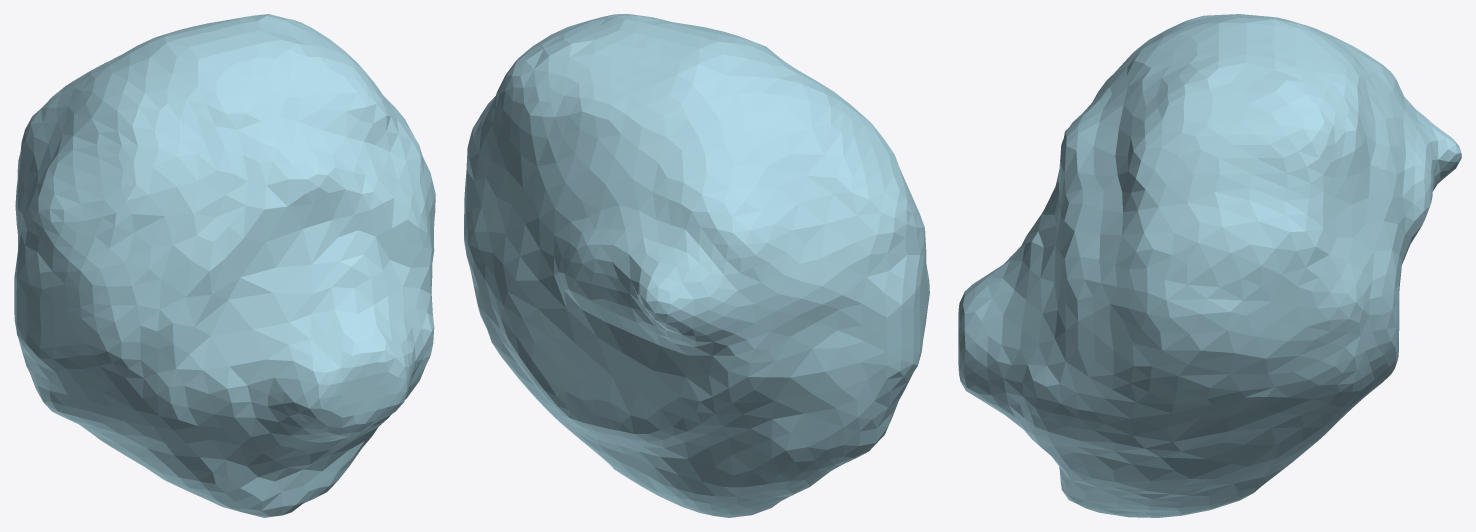
The model's file is livertumor.obj.
3 views of the same model, side by side, from view 1: azimuth 30°, elevation 25°; view 2: azimuth 150°, elevation 25°; view 3: azimuth 270°, elevation 25° (orthographic). The views are drawn at different scales.
Parts seen in each view (by area): view 1: grp1; view 2: grp1; view 3: grp1.
Boxes of the visible parts, box(x1,y1,x2,y2) form: grp1: box(14, 14, 435, 517); grp1: box(464, 14, 929, 517); grp1: box(958, 14, 1461, 517).
Size of the model in its own units: 23.41 by 24.4 by 23.75.
